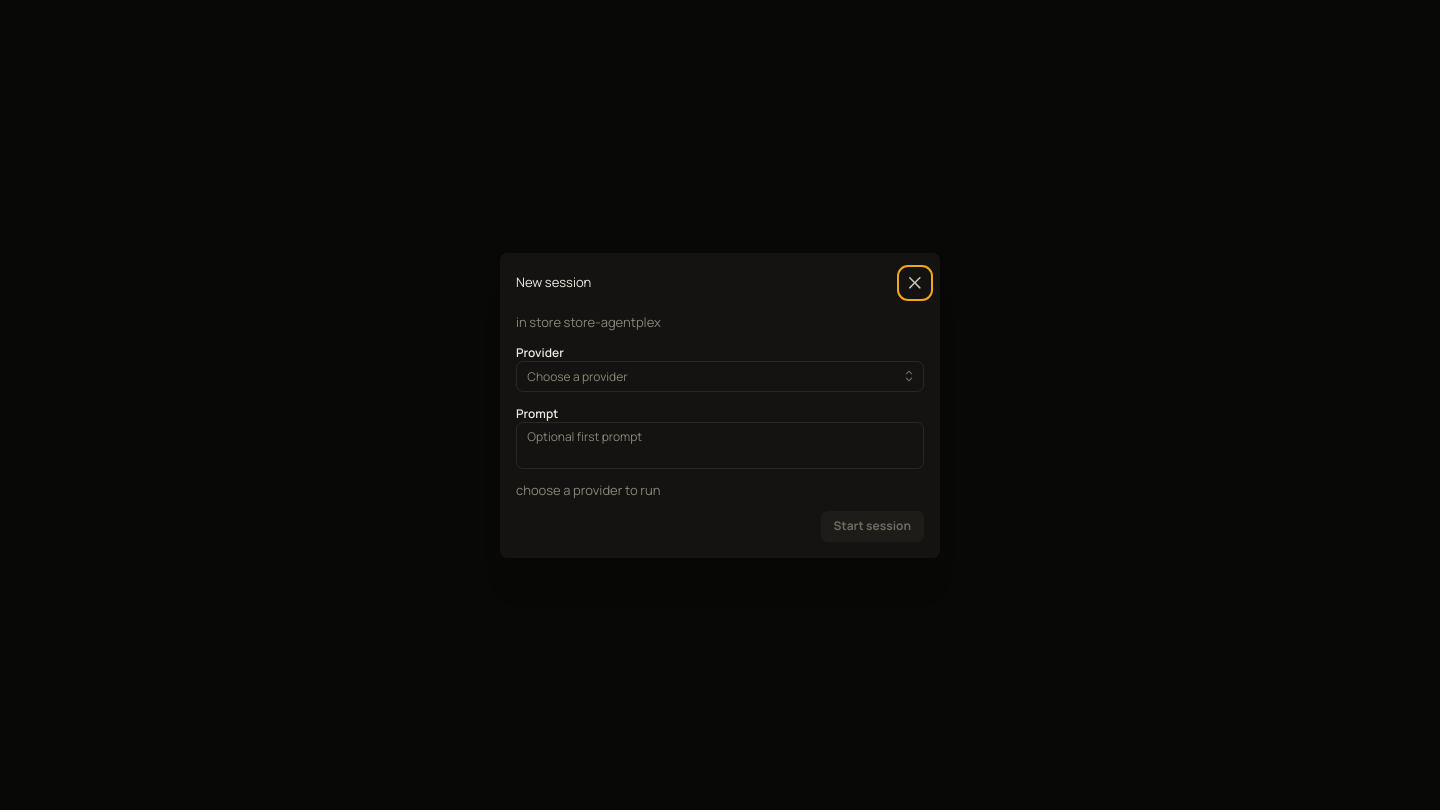
Scenario: the new-session form › names the machine already running the session it was refused for
The width and height of the screenshot is (1440, 810).
Click the dropdown named "Provider" at (720, 376), box [516,360,924,392]
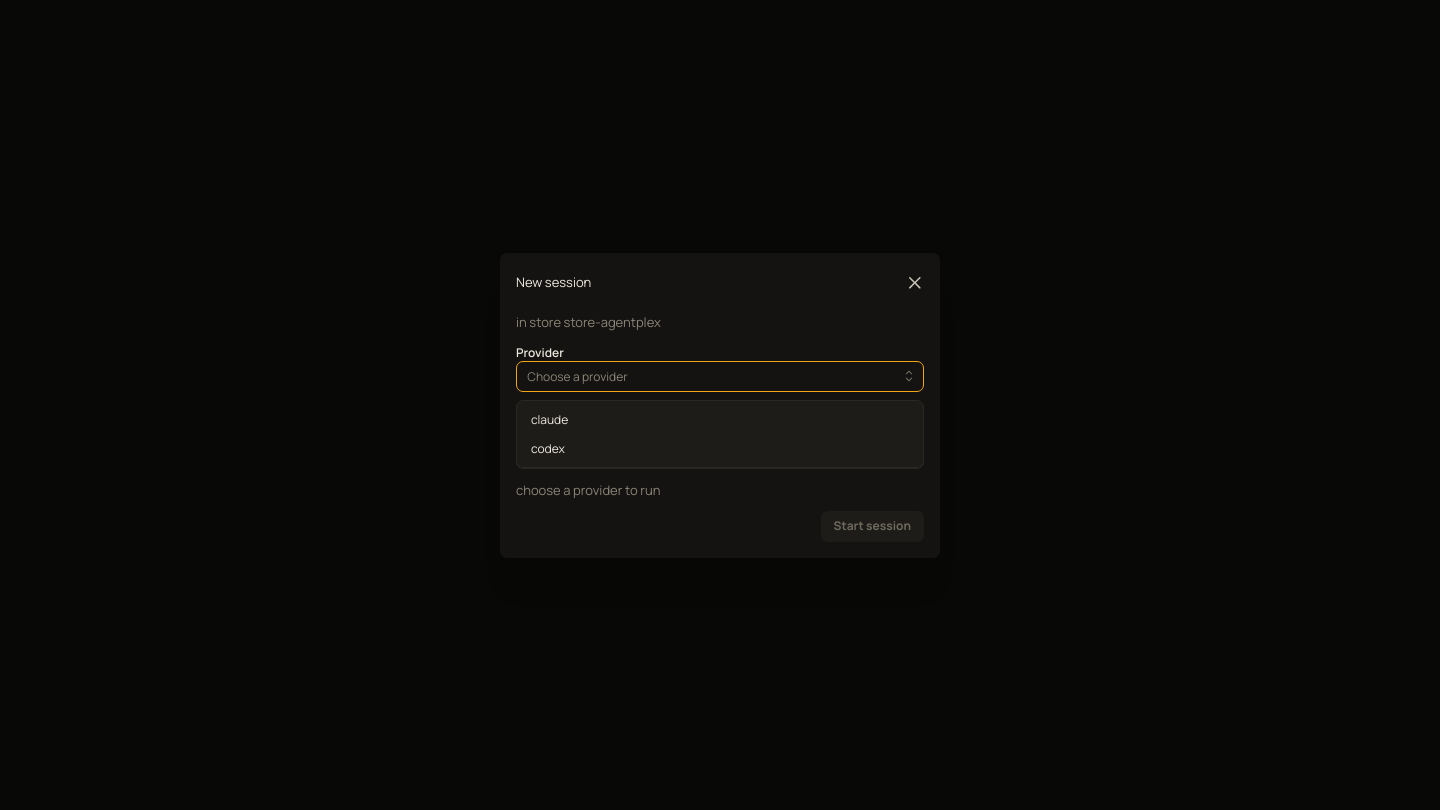
Click the option "claude" at (550, 419), box [531,410,568,428]
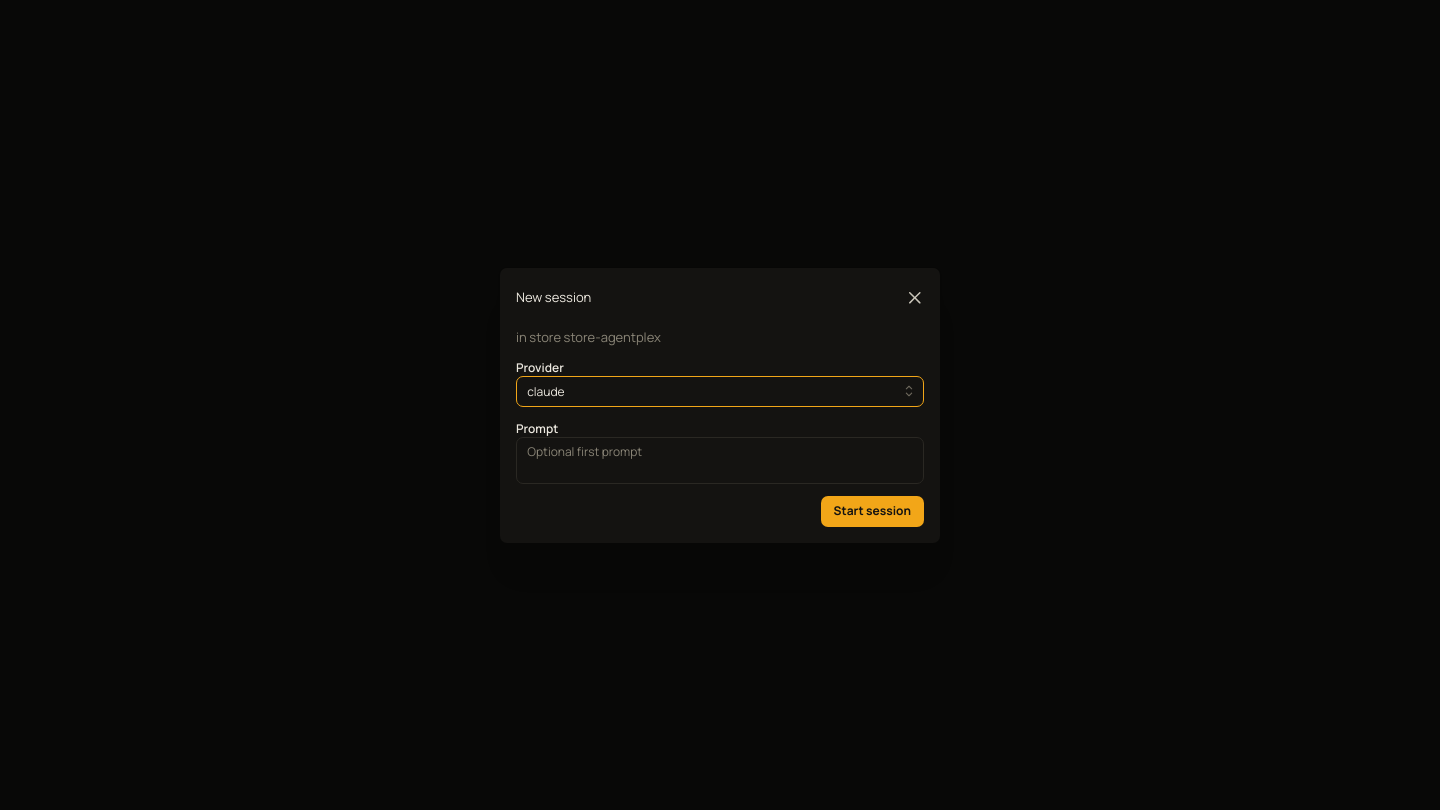
Click the button "Start session" at (872, 511), box [821,496,924,526]
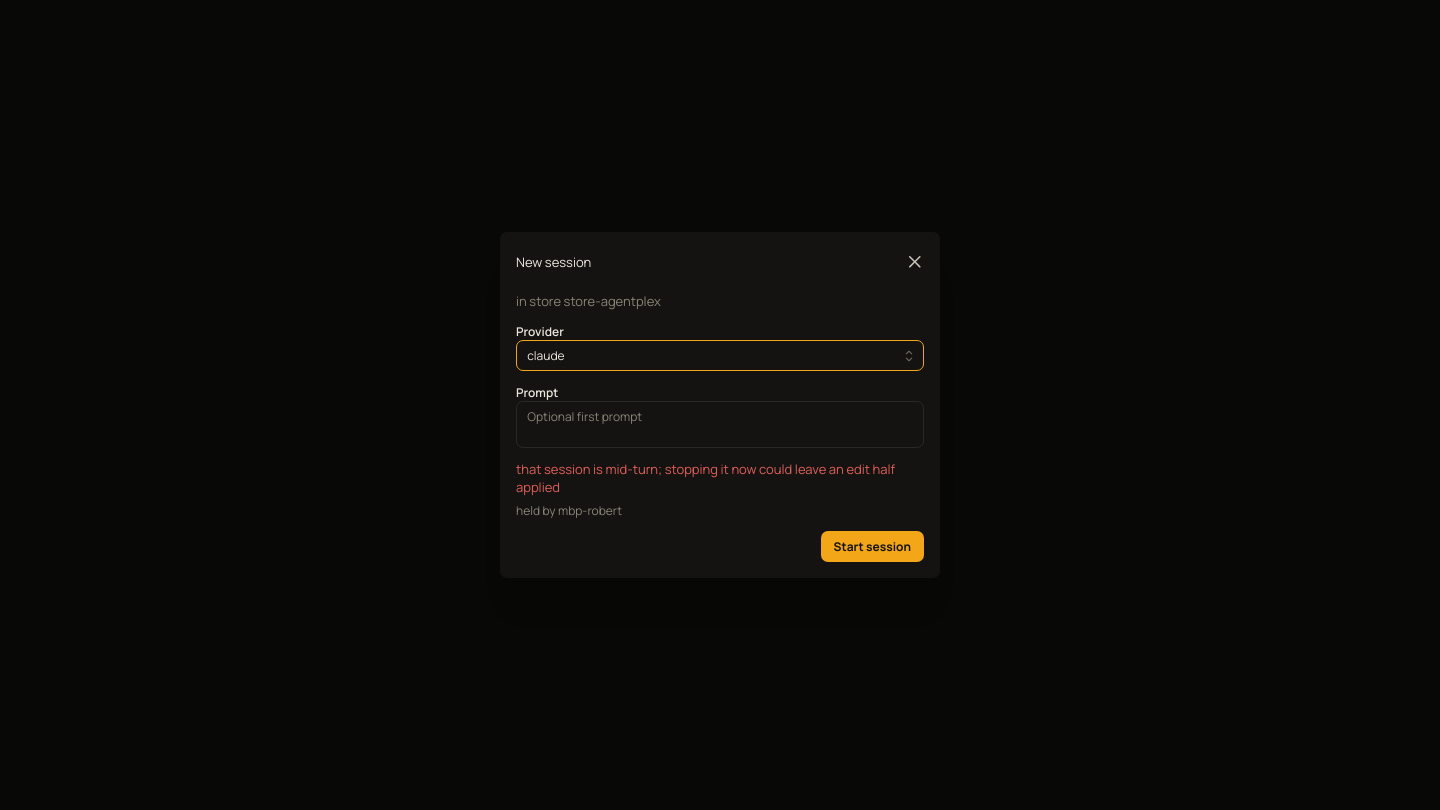
Result: the text "that session is mid-turn; stopping it now could leave an edit half applied" is shown at [516,460,924,496]
Result: the text "held by mbp-robert" is shown at [516,502,622,519]
